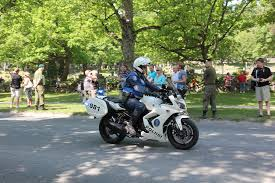helmet: (132, 57, 150, 70)
